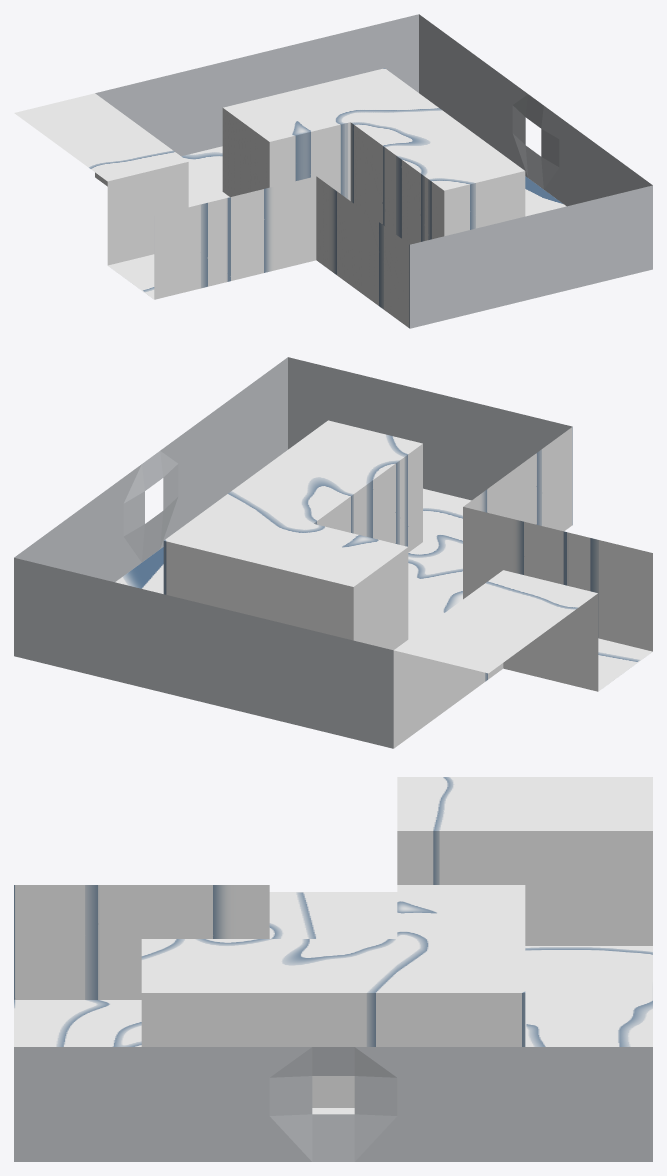
File: level_1D.dae
3 renders of one model, top to bottom at view 1: azimuth 30°, elevation 25°; view 2: azimuth 150°, elevation 25°; view 3: azimuth 270°, elevation 25°, orthographic. The views are drawn at different scales.
Visible parts, largest first — view 1: Plane; view 2: Plane; view 3: Plane.
Part boxes in pixels (x1,y1,x2,y2): Plane: [14, 14, 652, 328]; Plane: [14, 357, 652, 748]; Plane: [14, 777, 652, 1161].
Bounding box in the file's own units: 151 × 151 × 30.
